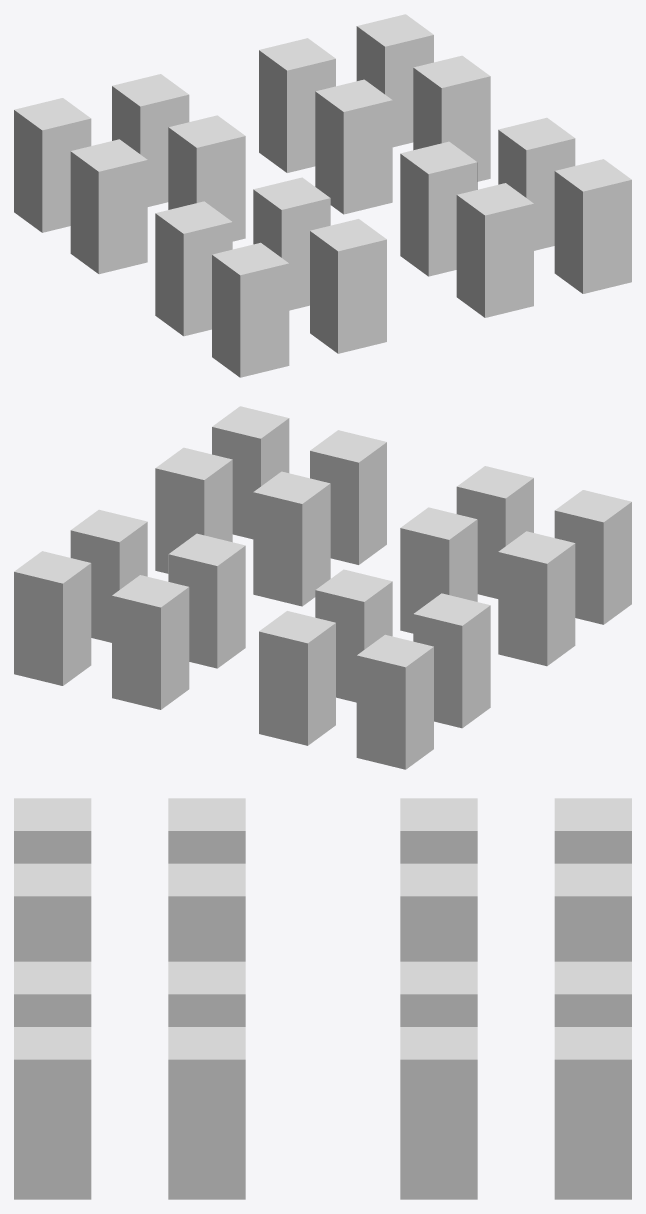
The model's file is RoboLeg.fbx.
3 renders of one model, top to bottom at view 1: azimuth 30°, elevation 25°; view 2: azimuth 150°, elevation 25°; view 3: azimuth 270°, elevation 25°, orthographic. The views are drawn at different scales.
Visible parts, largest first — view 1: Robot:Mesh; view 2: Robot:Mesh; view 3: Robot:Mesh.
Boxes of the visible parts, x1,y1,x2,y2 form: Robot:Mesh: (14,14,631,377); Robot:Mesh: (14,406,631,769); Robot:Mesh: (14,798,631,1199).
Bounding box in the file's own units: 0.8 × 0.2 × 0.8.
1 material, 1 textured.
